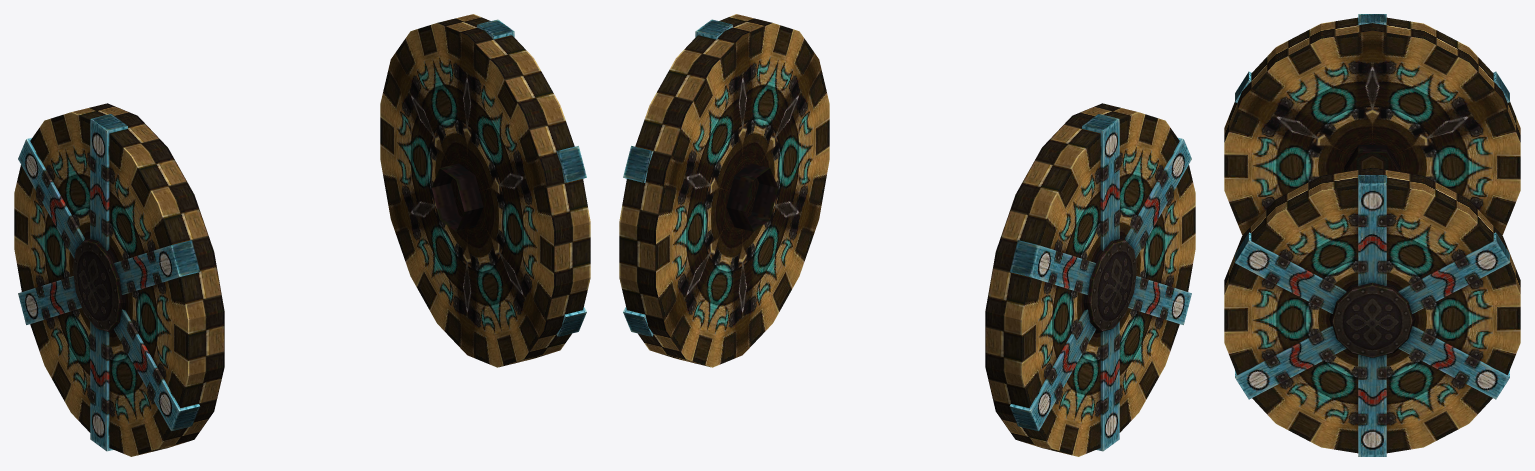
Rendered from tower_side_gears.dae.
3 renders of one model, left to right at view 1: azimuth 30°, elevation 25°; view 2: azimuth 150°, elevation 25°; view 3: azimuth 270°, elevation 25°, orthographic. The views are drawn at different scales.
Visible parts, largest first — view 1: panel_01_001, panel_01, panel_01_frame, panel_01_frame_001; view 2: panel_01_001, panel_01, panel_01_frame, panel_01_frame_001; view 3: panel_01_001, panel_01, panel_01_frame_001, panel_01_frame.
Boxes of the visible parts, box(x1,y1,x2,y2) form: panel_01_001: box(380, 14, 590, 367); panel_01: box(14, 103, 224, 456); panel_01_frame: box(18, 114, 200, 451); panel_01_frame_001: box(477, 19, 586, 336); panel_01_001: box(619, 14, 829, 367); panel_01: box(985, 103, 1195, 456); panel_01_frame: box(1009, 114, 1191, 451); panel_01_frame_001: box(623, 19, 732, 336); panel_01_001: box(1224, 167, 1520, 453); panel_01: box(1224, 17, 1520, 234); panel_01_frame_001: box(1235, 175, 1509, 456); panel_01_frame: box(1235, 14, 1509, 102).
Size of the model in its own units: 4.62 by 3.29 by 3.35.
2 materials, 2 textured.
